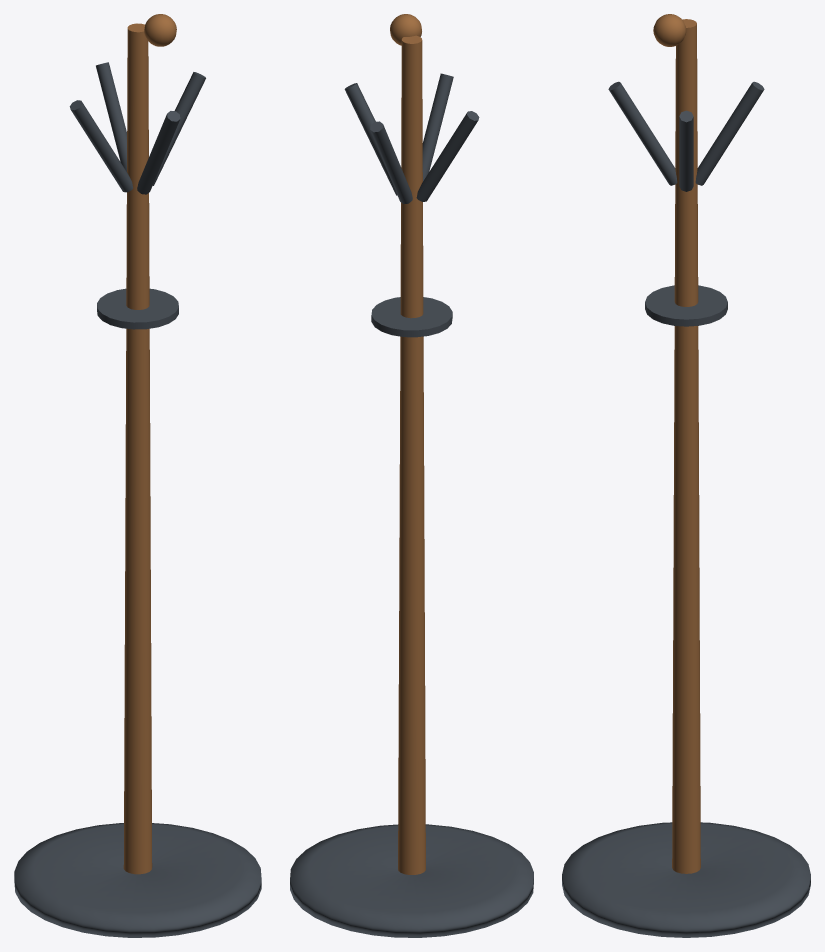
File: coatrail.glb
3 views of the same model, side by side, from view 1: azimuth 30°, elevation 25°; view 2: azimuth 150°, elevation 25°; view 3: azimuth 270°, elevation 25° (orthographic).
Visible parts, largest first — view 1: material-1-base, material-0-body, material-2-metal; view 2: material-1-base, material-0-body, material-2-metal; view 3: material-1-base, material-0-body, material-2-metal.
Boxes of the visible parts, box(x1,y1,x2,y2) form: material-1-base: box(14, 823, 261, 937); material-0-body: box(123, 14, 176, 874); material-2-metal: box(69, 62, 205, 329); material-1-base: box(290, 824, 533, 937); material-0-body: box(390, 14, 425, 874); material-2-metal: box(344, 73, 479, 337); material-1-base: box(562, 822, 810, 937); material-0-body: box(653, 14, 700, 873); material-2-metal: box(608, 81, 764, 326).
Size of the model in its own units: 0.45 by 1.75 by 0.45.
